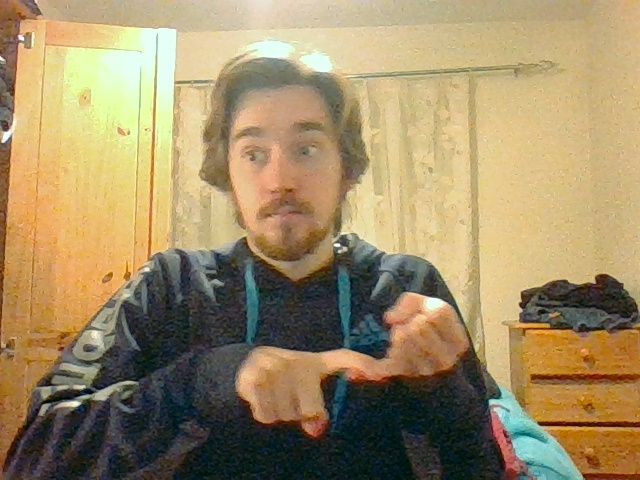step: (249, 291, 470, 438)
